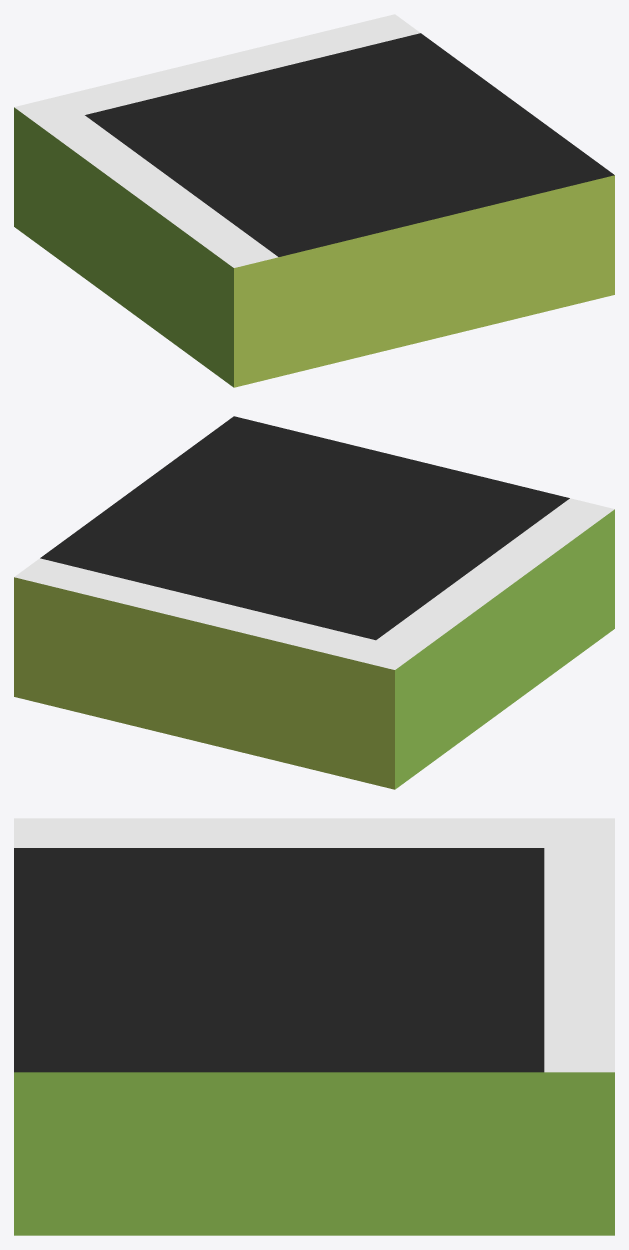
The model's file is floor_road2.fbx.
3 views of the same model, one above another, from view 1: azimuth 30°, elevation 25°; view 2: azimuth 150°, elevation 25°; view 3: azimuth 270°, elevation 25° (orthographic). The views are drawn at different scales.
Parts seen in each view (by area): view 1: floor_road2; view 2: floor_road2; view 3: floor_road2.
Boxes of the visible parts, <box> form: floor_road2: <box>14,14,614,387</box>; floor_road2: <box>14,416,614,789</box>; floor_road2: <box>14,818,614,1235</box>.
Size of the model in its own units: 100 by 30 by 100.
